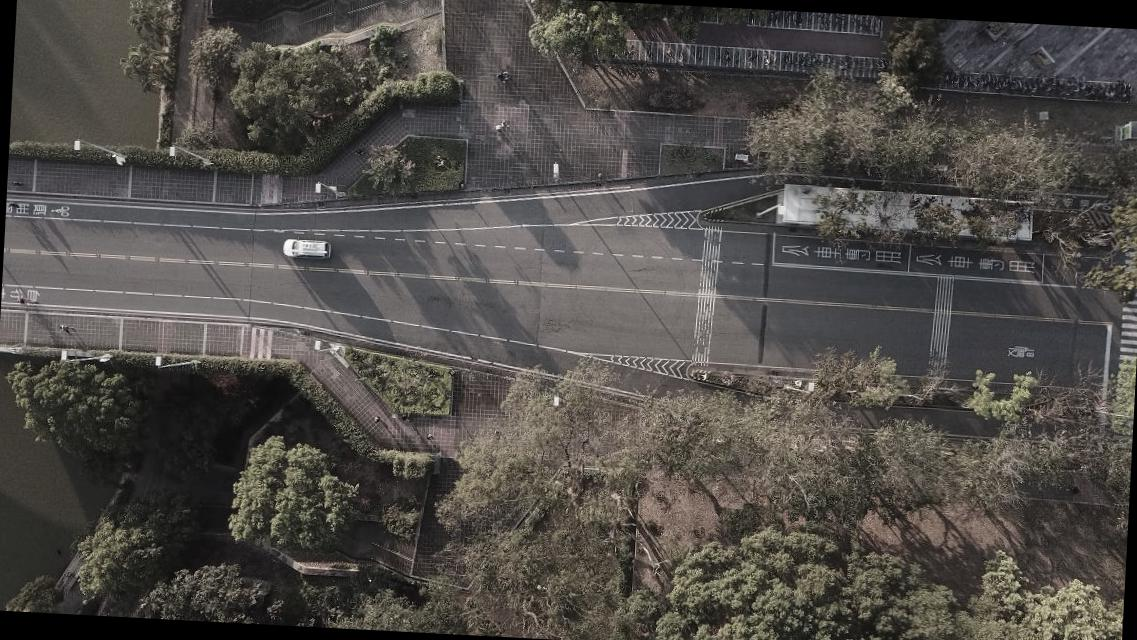vehicle: (282, 238, 332, 260)
